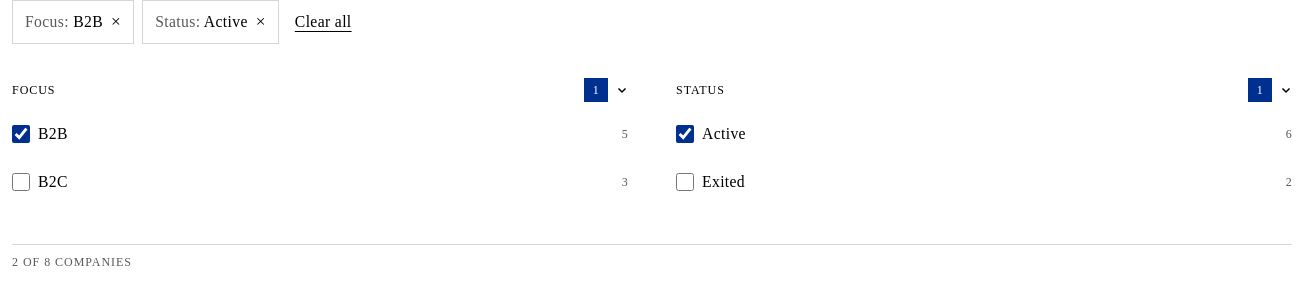
Test: portfolio filters › clears one value from its chip and leaves the rest of the URL intact
Click the link "Focus: B2B ×" at [73, 22], box [12,0,134,44]
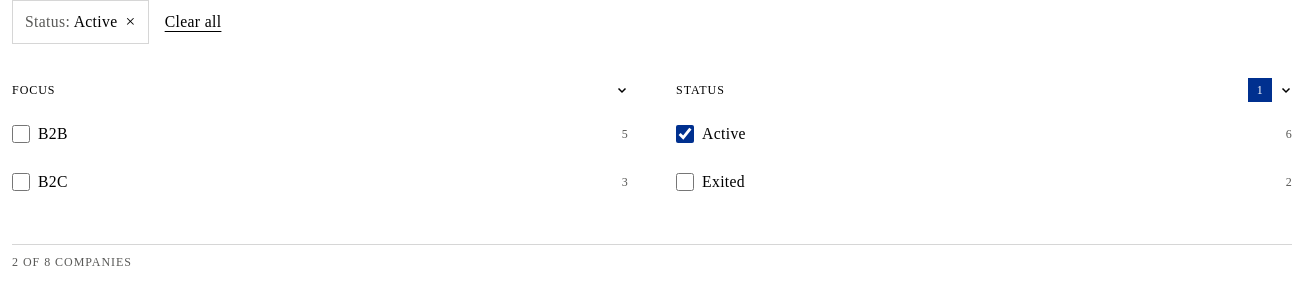
Expected: the checkbox labelled "Active 6" is checked, [676,125,694,143]
Now the checkbox labelled "B2B 5" is not checked, box [12,125,30,143]
